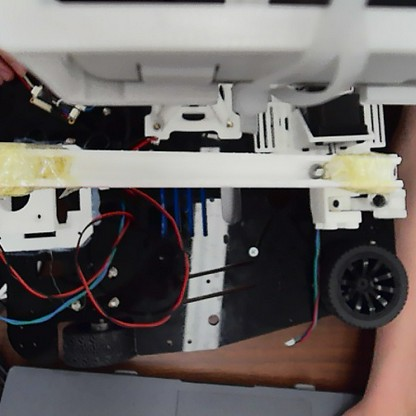ironball: (306, 161, 325, 178)
